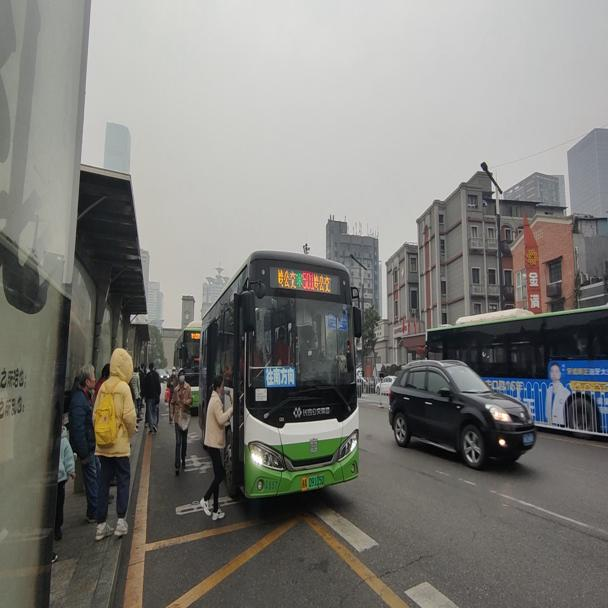bus: (200, 247, 361, 501), (172, 319, 200, 409)
screen: (301, 270, 314, 292)
